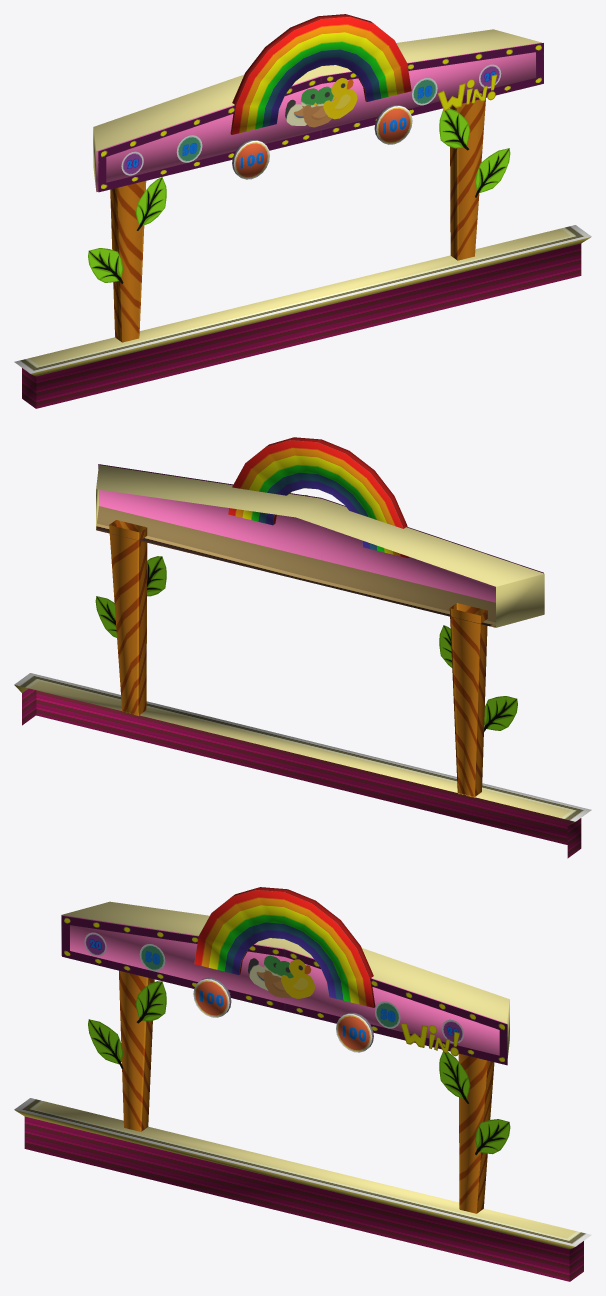
Rendered from 0605-02men.FBX.
The picture shows the model from 3 angles, top to bottom: view 1: azimuth 30°, elevation 25°; view 2: azimuth 150°, elevation 25°; view 3: azimuth 330°, elevation 25°; orthographic projection.
Parts seen in each view (by area): view 1: 对象001, changjing001, 对象002; view 2: 对象001, changjing001, 对象002; view 3: 对象001, changjing001, 对象002.
Part boxes in pixels (box(x1,y1,x2,y2)): 对象001: box(93, 14, 543, 192); changjing001: box(14, 225, 591, 408); 对象002: box(88, 98, 510, 342); 对象001: box(96, 437, 544, 627); changjing001: box(14, 673, 591, 858); 对象002: box(95, 520, 517, 797); 对象001: box(61, 887, 509, 1065); changjing001: box(14, 1098, 591, 1281); 对象002: box(88, 970, 510, 1213).
Size of the model in its own units: 1.8 by 1.02 by 0.1629.
Materials: 1 (1 with a texture image).
